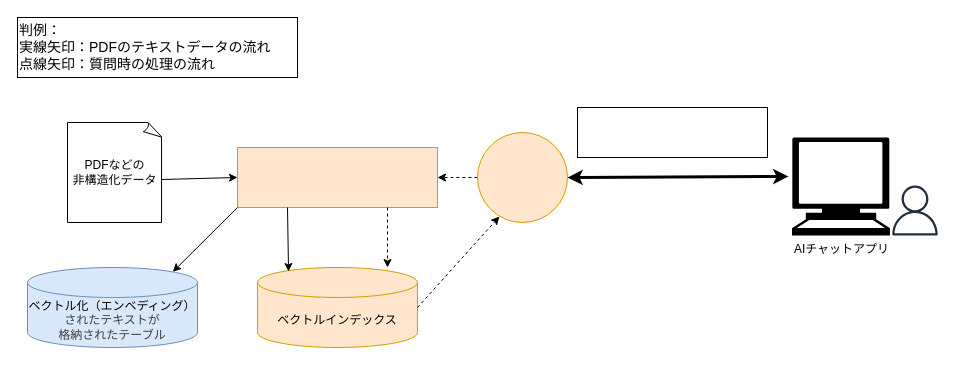
Image size: 957x365. Some labels were removed from this diagram. The box of each missing label's shape, as (x1, y1, x2, y2) in pixels:
クエリ（質問文） 福永の研究について教えて下さい: (576, 106, 768, 158)
ベクトル化（エンベディング）する モデル: (236, 146, 438, 208)
ベクトル検索 エンドポイント: (476, 132, 568, 222)
